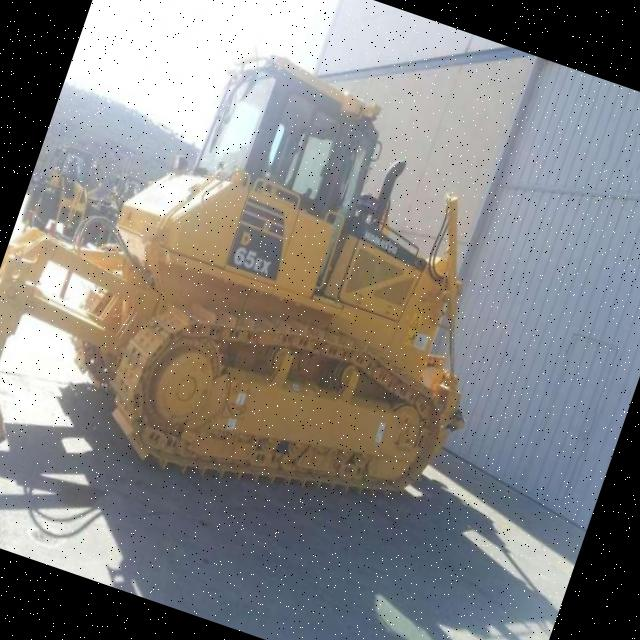Bulldozer: (0, 0, 575, 587)
